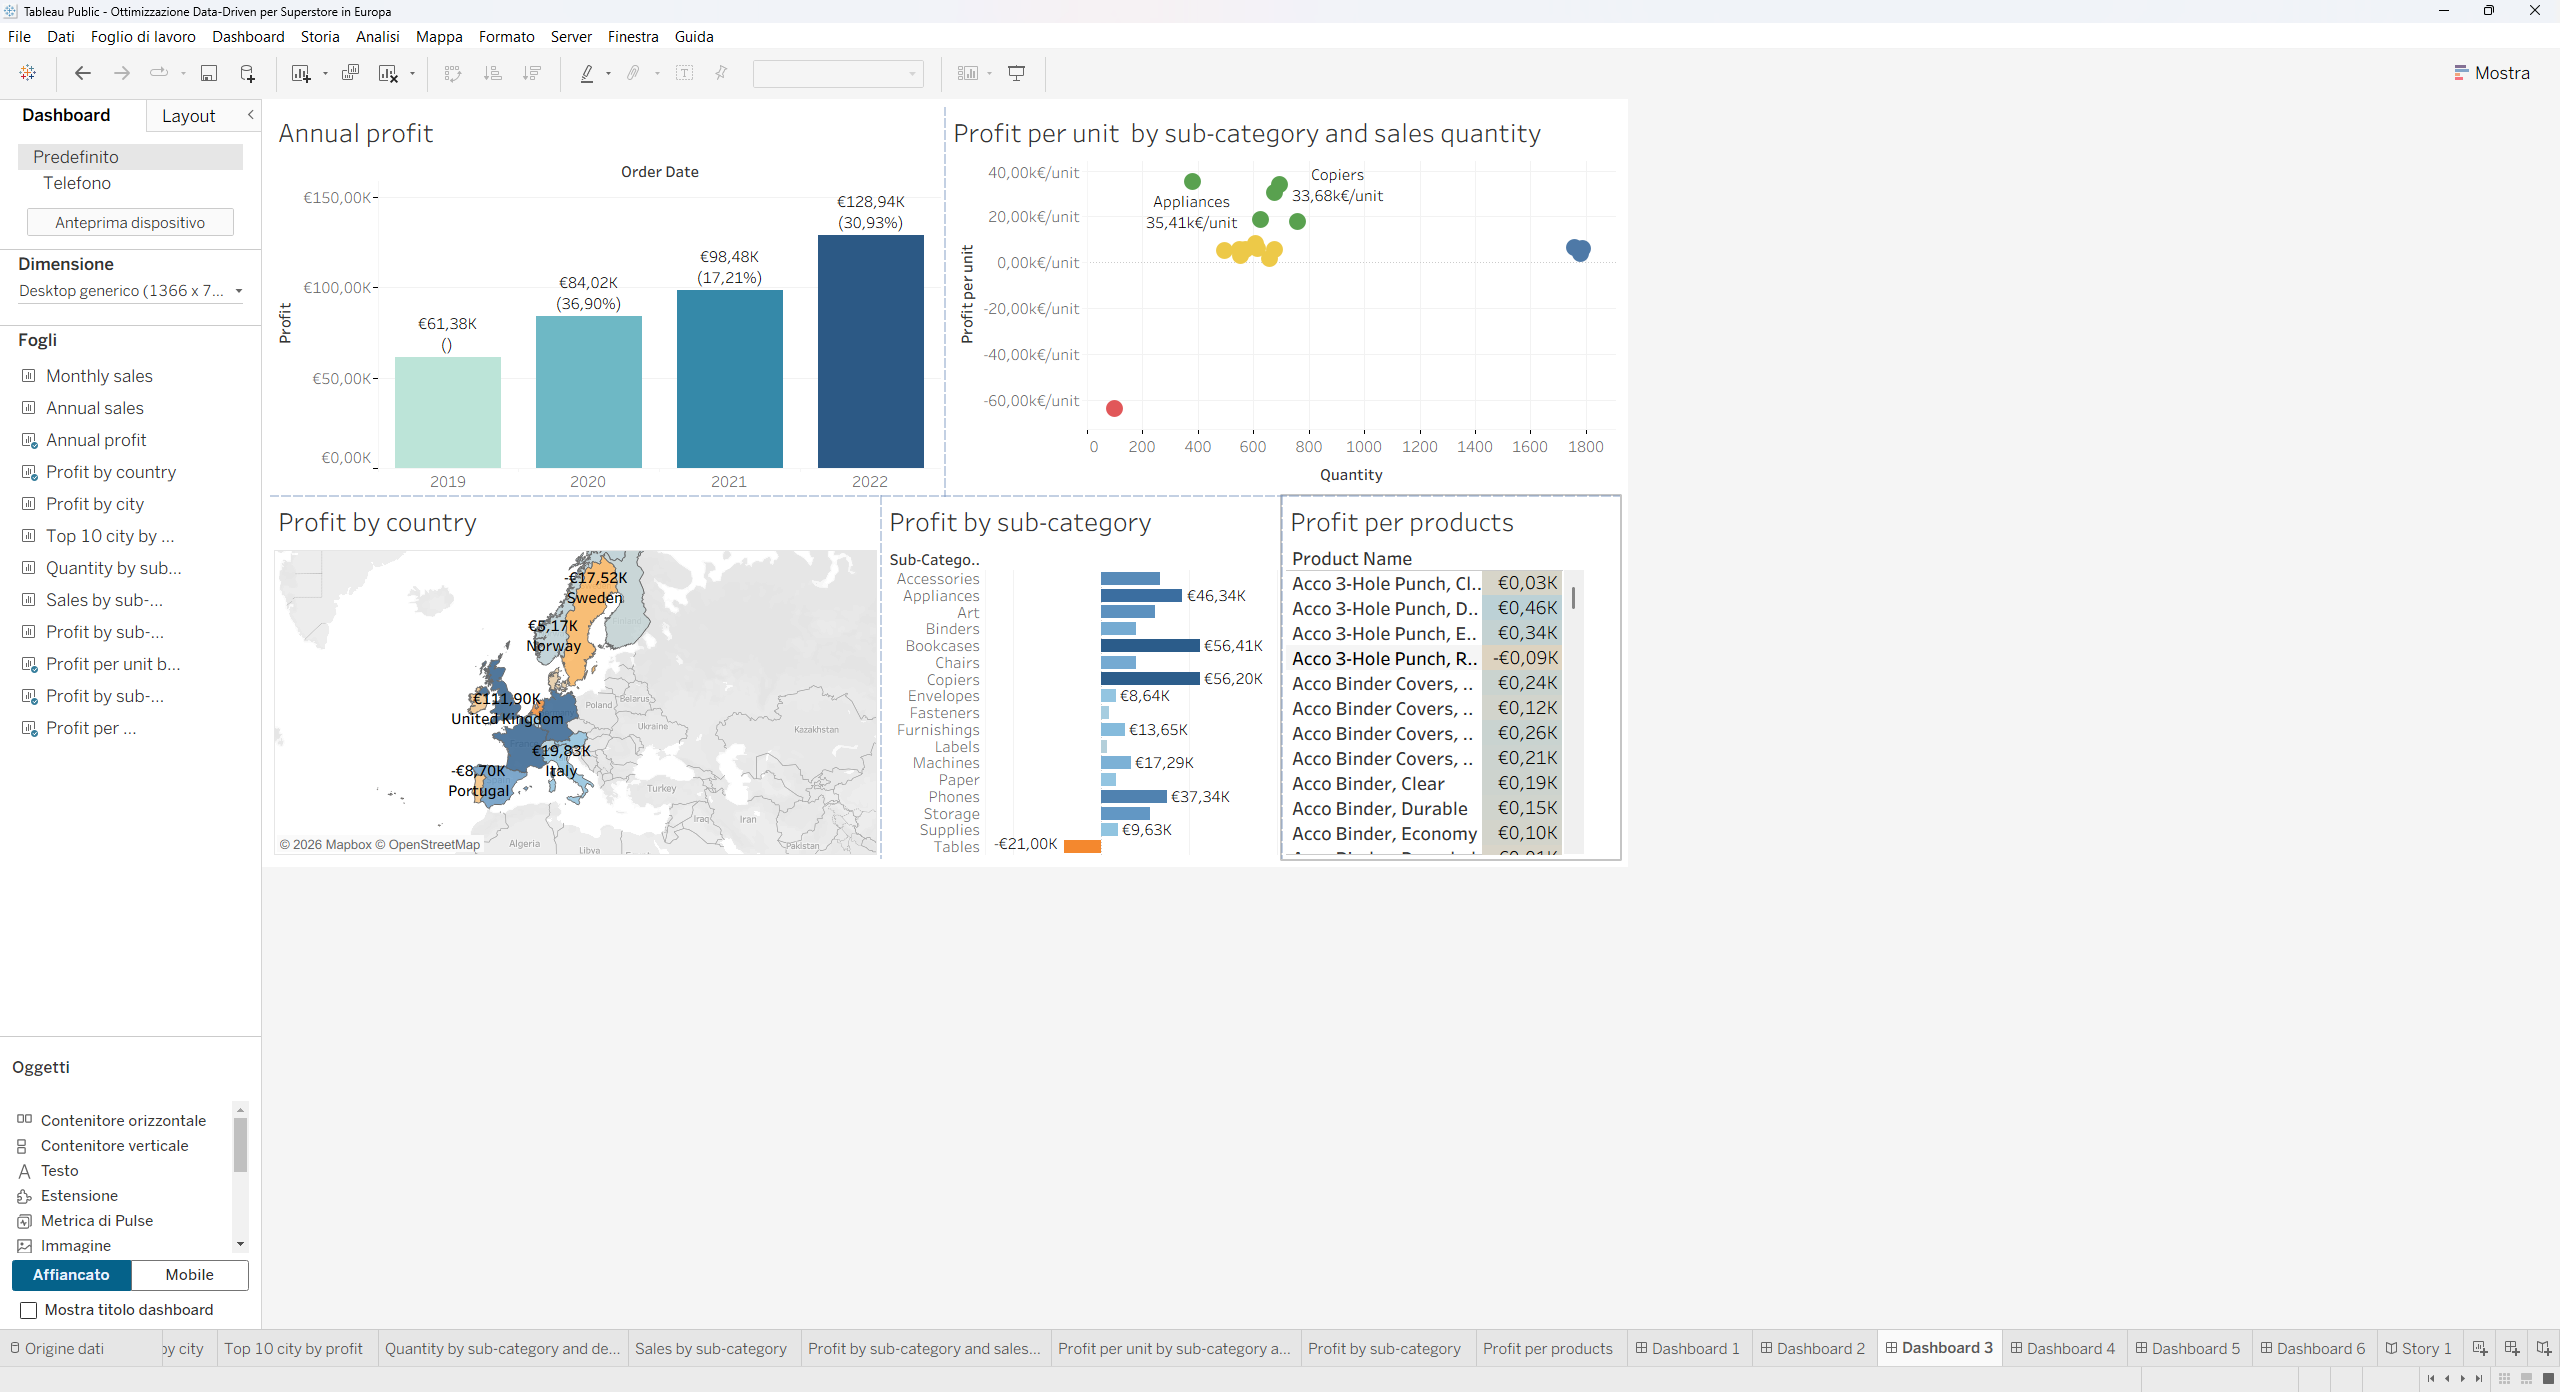

The dashboard page shown, as its layout file describes it:
{"tool":"tableau","page":{"name":"Dashboard 3","canvas":[1366,768],"ordinal":2},"visuals":[{"type":"worksheet","title":"Annual profit","mark":"Bar","rows":["Profit"],"cols":["Order Date"],"box":[8,8,675,389]},{"type":"worksheet","title":"Profit per unit by sub-category and sales quantity","mark":"Automatic","rows":["Calculation_0837880569569280"],"cols":["Quantity"],"box":[683,8,675,389]},{"type":"worksheet","title":"Profit by country","mark":"Automatic","box":[8,397,610.9,363]},{"type":"worksheet","title":"Profit by sub-category","mark":"Automatic","rows":["Sub-Category"],"cols":["Profit"],"box":[618.9,397,401.5,363]},{"type":"worksheet","title":"Profit per products","mark":"Square","rows":["Product Name"],"box":[1020.4,397,337.6,363]}]}

Visuals, with their boxes on the page's 1366x768 design canvas (x1, y1, x2, y2). These are canvas units, not pixel positions in the 2560x1392 screenshot, which may show the page scaled, cropped or inside an application window:
"Annual profit" worksheet (Bar marks): pyautogui.locateOnScreen(8, 8, 683, 397)
"Profit per unit by sub-category and sales quantity" worksheet: pyautogui.locateOnScreen(683, 8, 1358, 397)
"Profit by country" worksheet: pyautogui.locateOnScreen(8, 397, 619, 760)
"Profit by sub-category" worksheet: pyautogui.locateOnScreen(619, 397, 1020, 760)
"Profit per products" worksheet (Square marks): pyautogui.locateOnScreen(1020, 397, 1358, 760)
